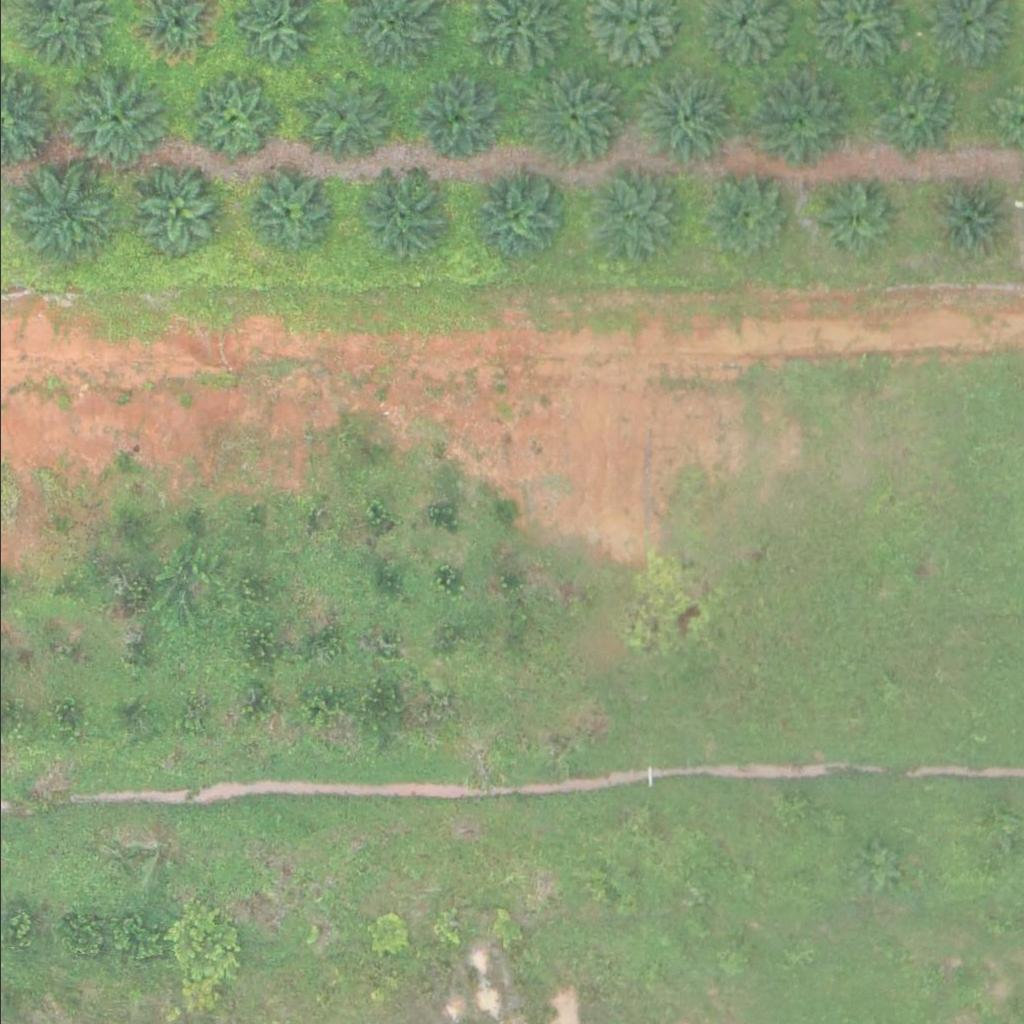Kelapa_Sawit: (634, 75, 735, 175), (523, 68, 624, 168), (464, 167, 565, 267), (746, 71, 846, 171), (15, 162, 115, 262), (63, 67, 163, 167), (803, 173, 891, 261), (866, 76, 954, 164), (412, 73, 500, 161), (356, 175, 444, 263), (242, 171, 330, 259), (132, 172, 220, 260), (922, 177, 1010, 264), (300, 77, 388, 164), (702, 173, 790, 260), (587, 173, 675, 260), (189, 74, 277, 161)
